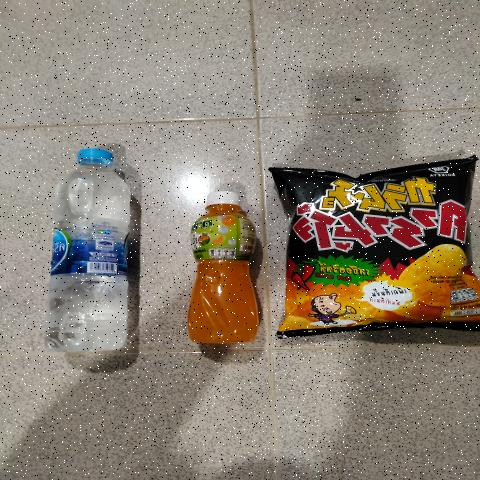crystal: (36, 139, 134, 373)
karamujo: (293, 167, 457, 336)
